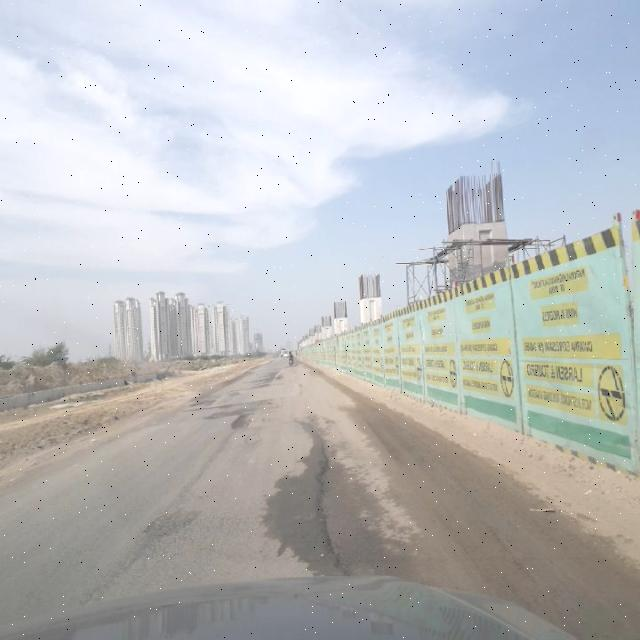D00: (104, 426, 233, 596), (300, 417, 358, 571)
D40: (132, 498, 207, 548), (230, 402, 262, 441)
